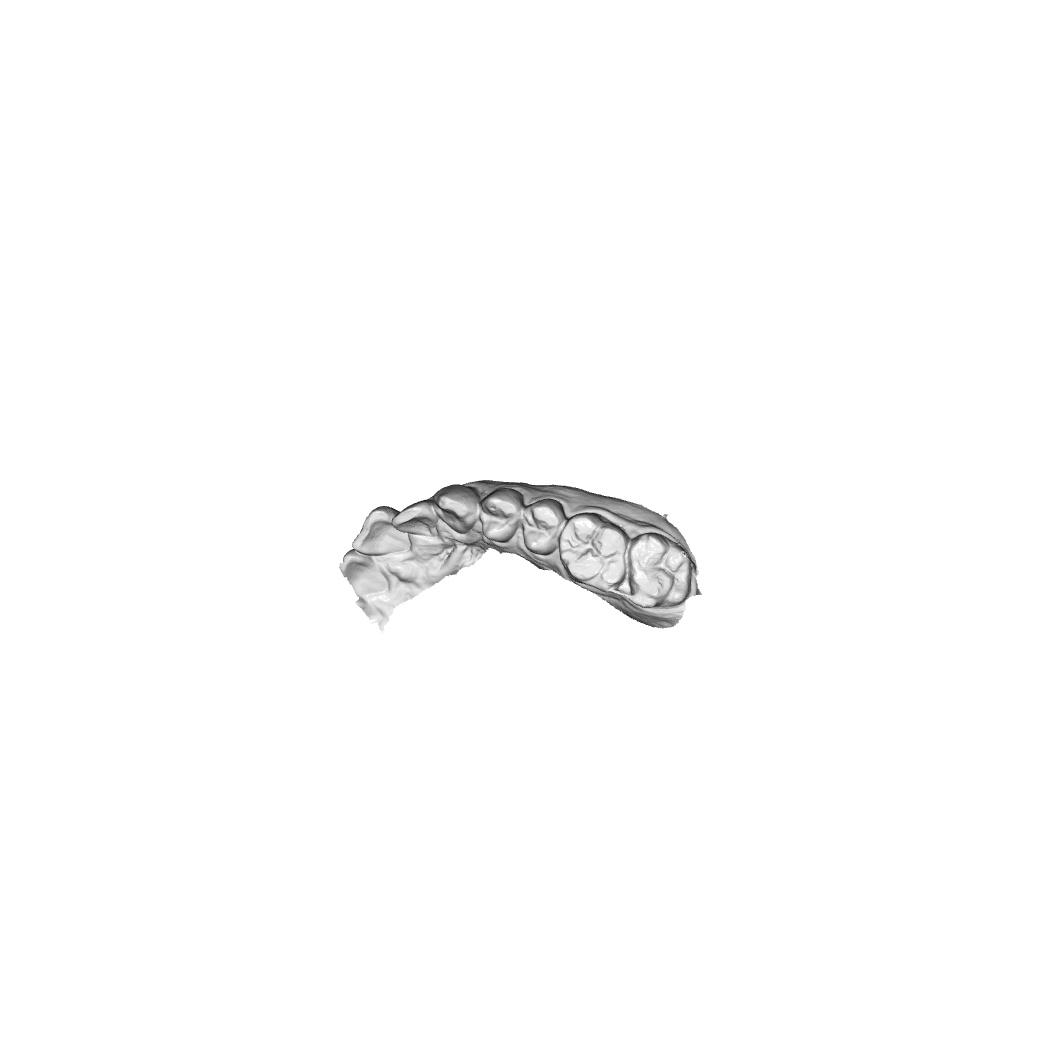canine: (432, 483, 480, 535)
incisor: (350, 504, 412, 557), (391, 498, 440, 538)
molar: (558, 512, 630, 593), (626, 532, 693, 609)
premolar: (522, 497, 566, 556), (479, 487, 524, 544)
